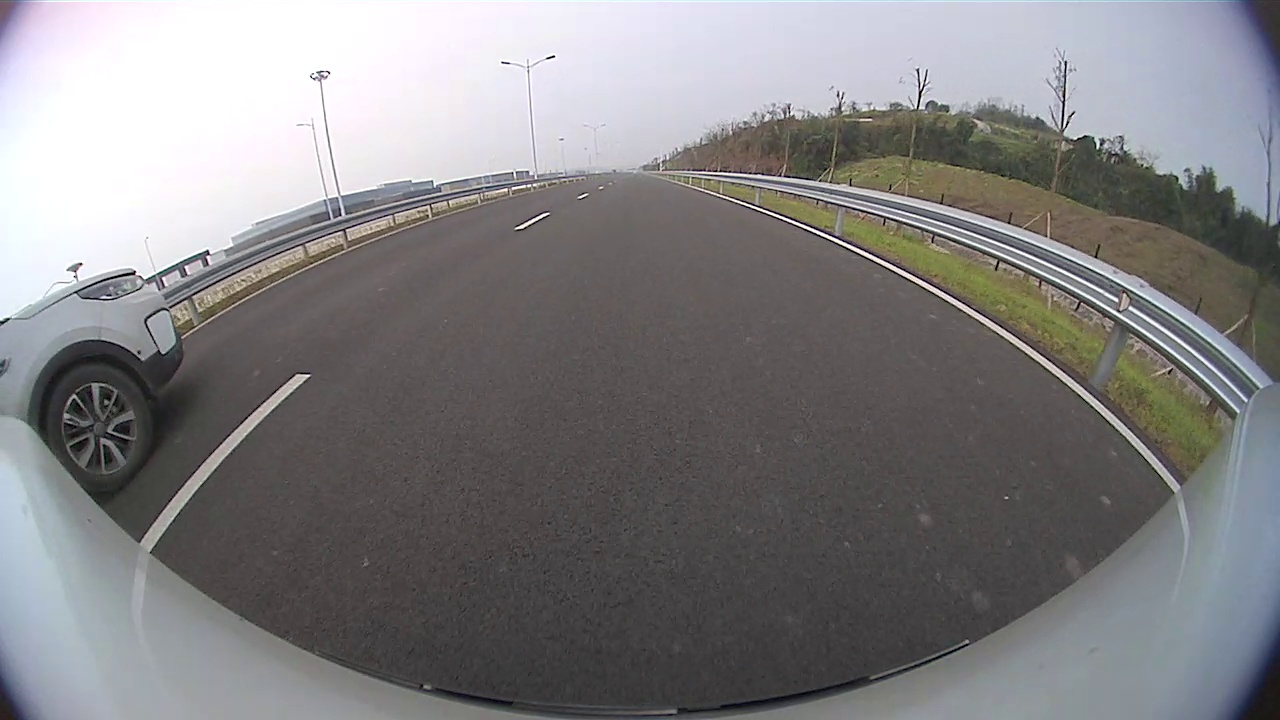car: (3, 265, 188, 502)
front: (41, 360, 158, 491)
